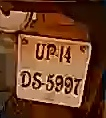1: (59, 44, 64, 63)
4: (64, 45, 72, 65)
5: (46, 72, 55, 93)
7: (73, 76, 82, 97)
9: (55, 73, 63, 95), (65, 75, 73, 97)
D: (21, 68, 32, 92)
P: (46, 42, 55, 65)
S: (32, 70, 43, 93)
U: (34, 41, 46, 62)
